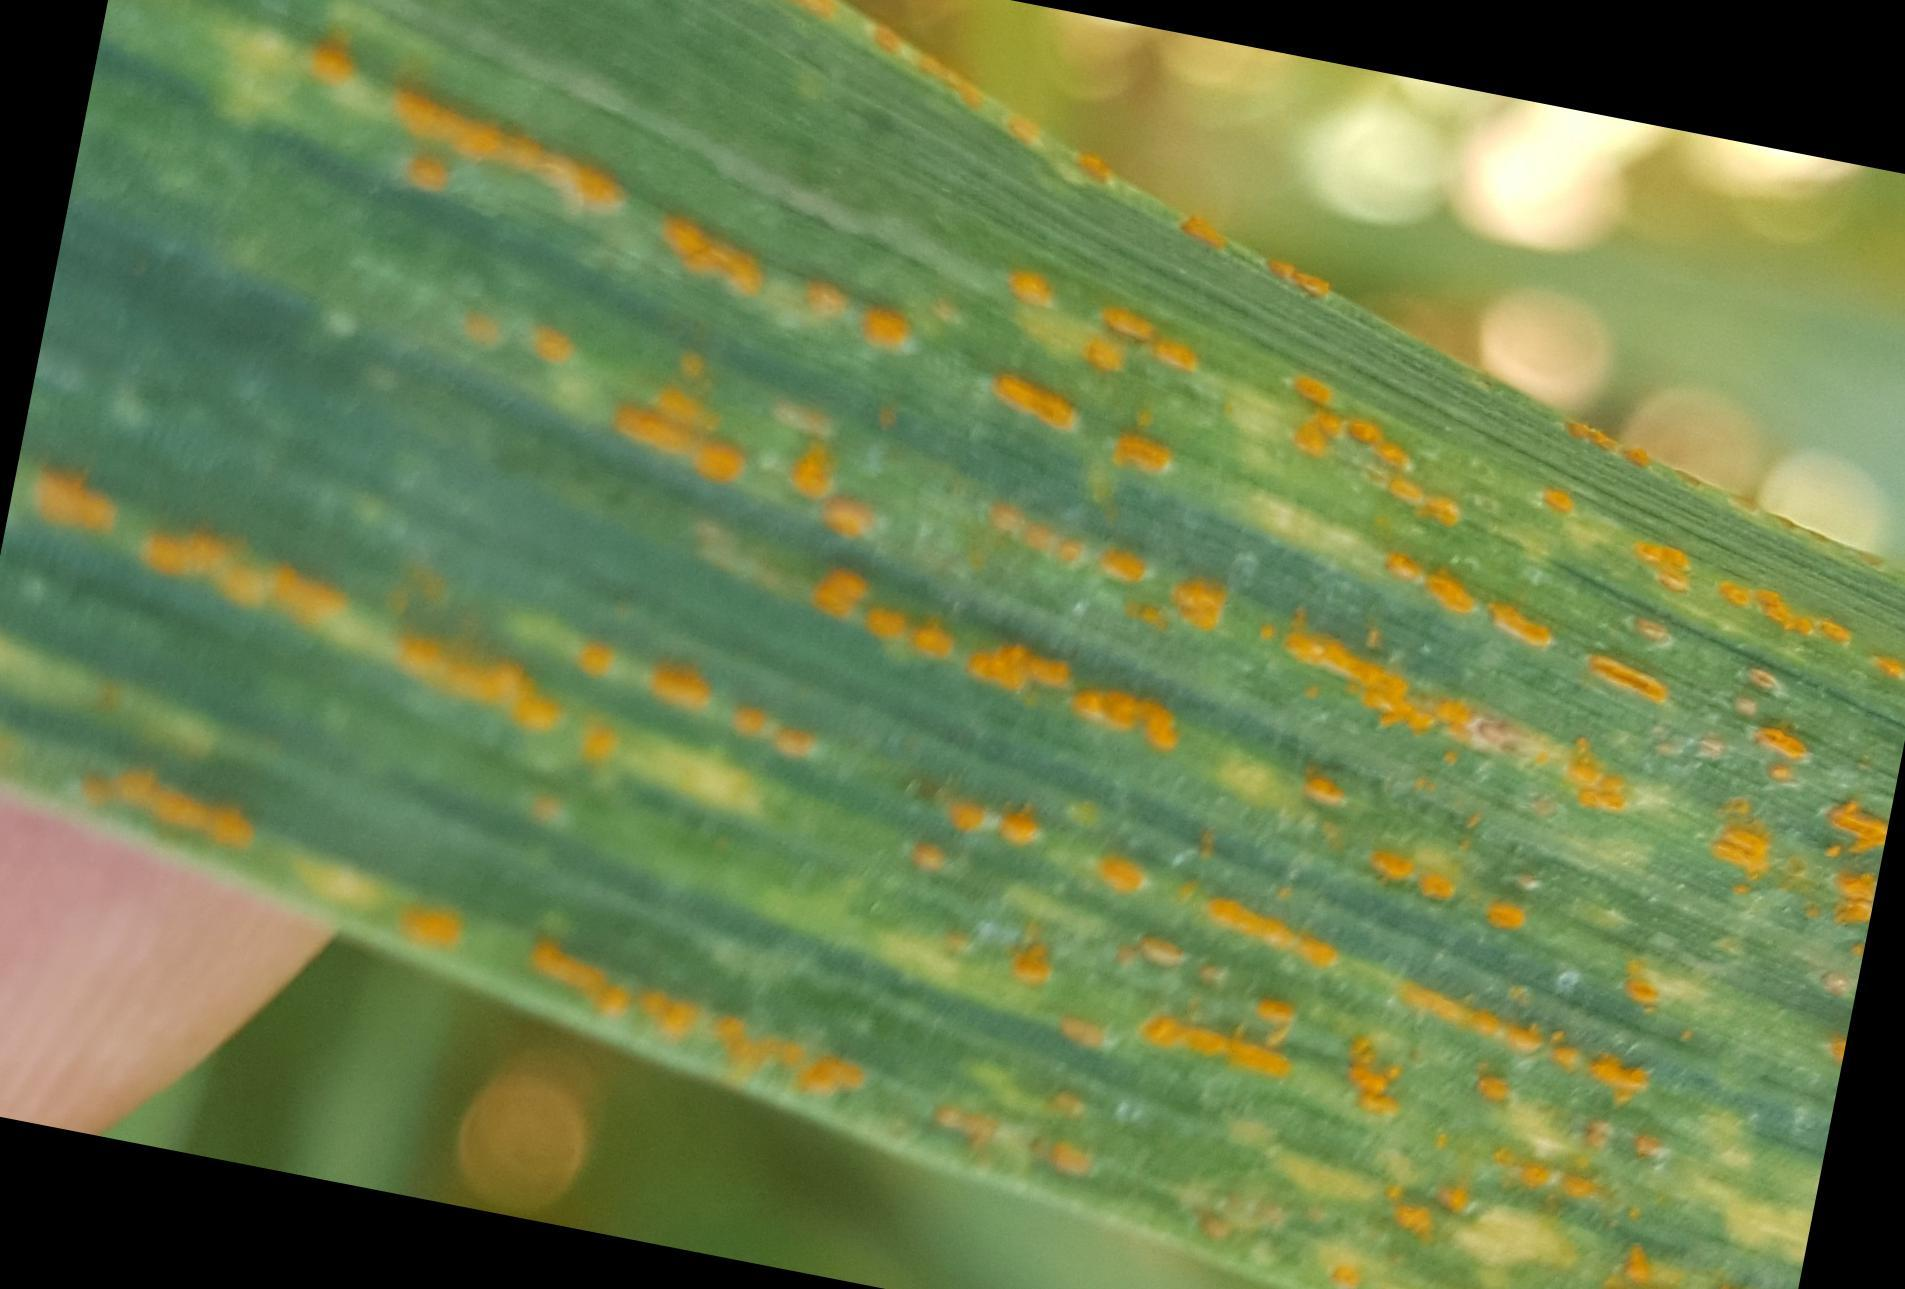Wheat: (580, 96, 1879, 1049), (905, 794, 1691, 1279)
